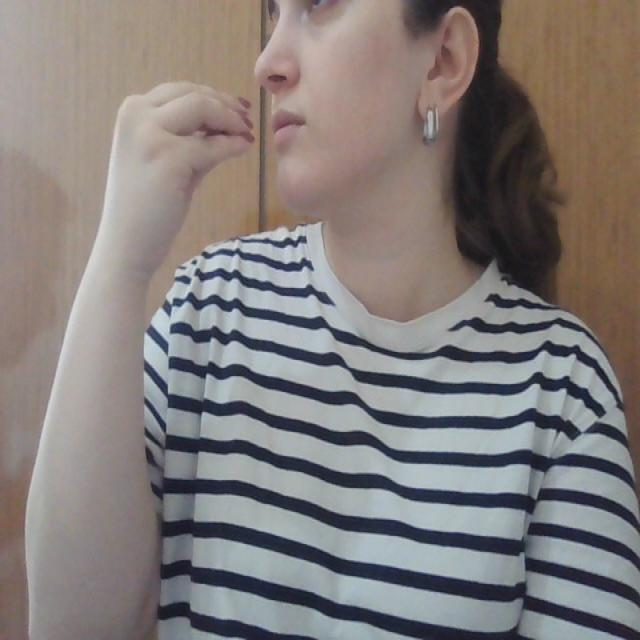Yemek: (111, 77, 312, 160)
